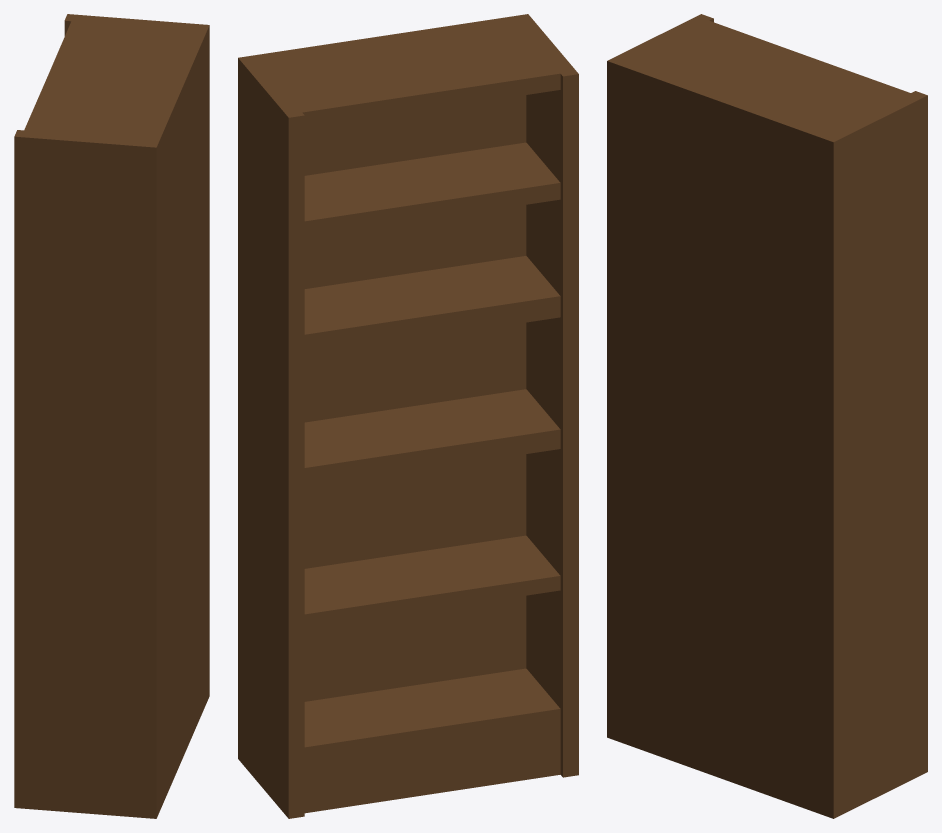
The model's file is bookcase_updated.fbx.
The picture shows the model from 3 angles, left to right: view 1: azimuth 30°, elevation 25°; view 2: azimuth 150°, elevation 25°; view 3: azimuth 270°, elevation 25°; orthographic projection. The views are drawn at different scales.
Visible parts, largest first — view 1: book_case; view 2: book_case; view 3: book_case.
Part boxes in pixels (x1=…): book_case: x1=14, y1=14, x2=209, y2=818; book_case: x1=238, y1=14, x2=578, y2=818; book_case: x1=607, y1=14, x2=927, y2=818.
Bounding box in the file's own units: 15.33 × 37.7 × 16.21.
